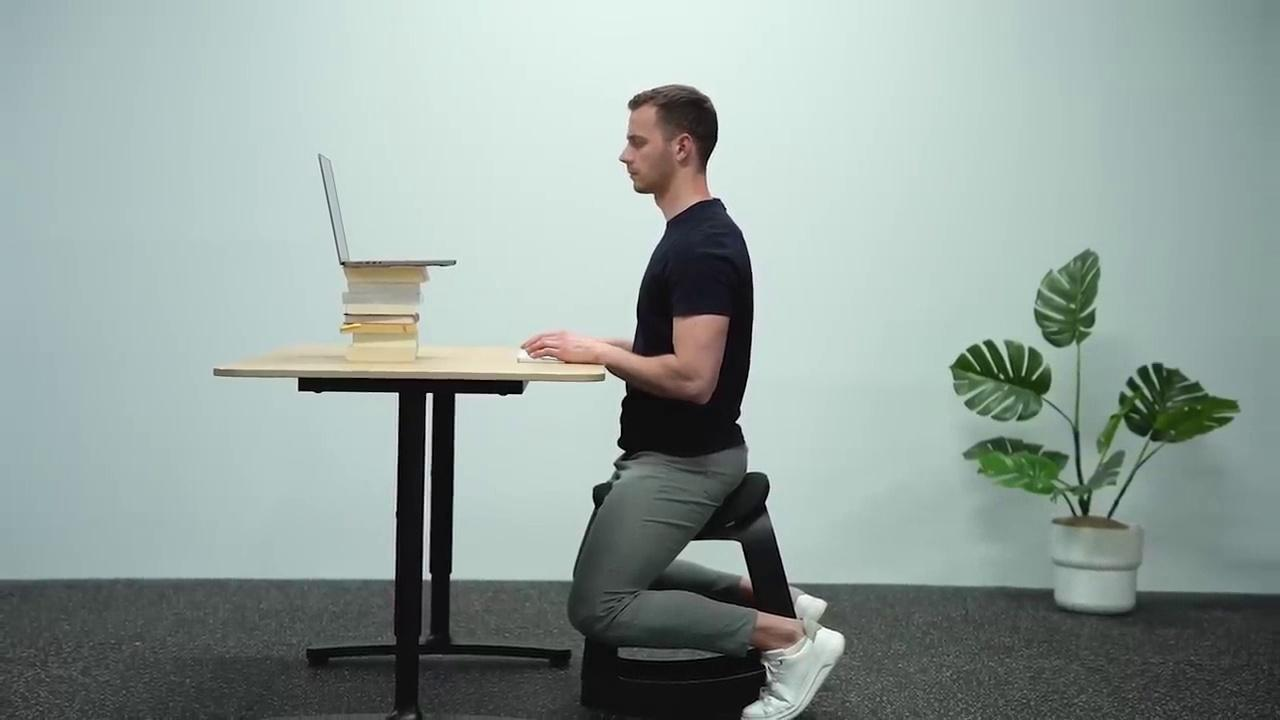GoodPosture: (522, 85, 842, 719)
